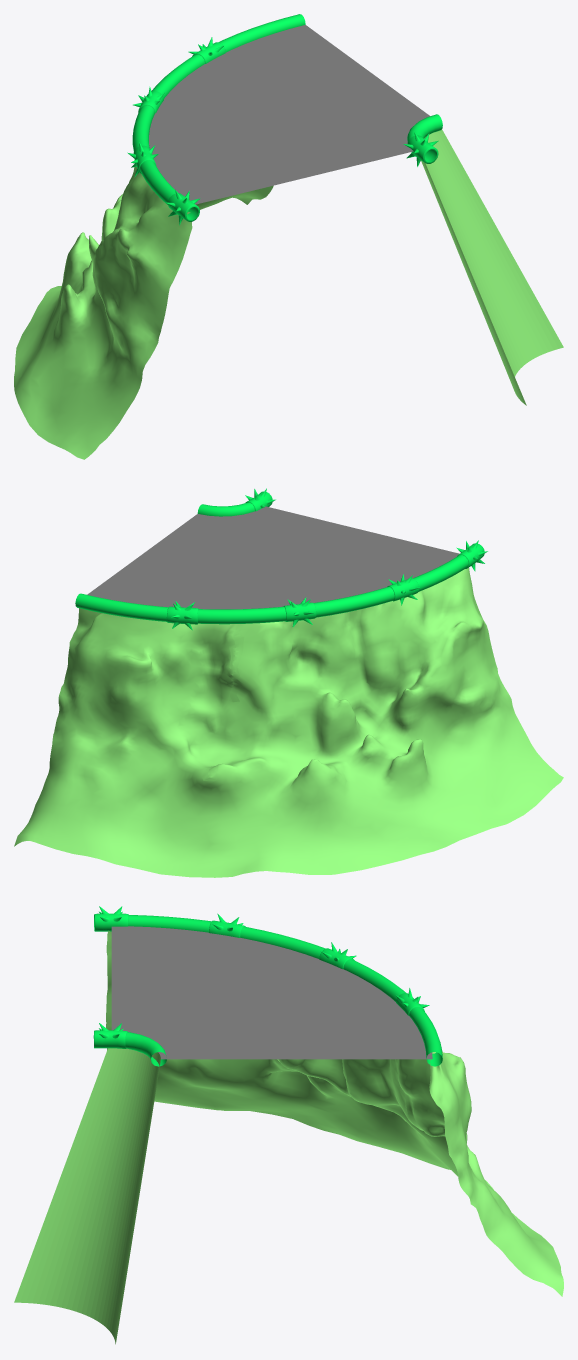
File: Track_Ice_03.fbx
3 views of the same model, one above another, from view 1: azimuth 30°, elevation 25°; view 2: azimuth 150°, elevation 25°; view 3: azimuth 270°, elevation 25° (orthographic). The views are drawn at different scales.
Visible parts, largest first — view 1: Track_Ice_03_walls, Track_Ice_03; view 2: Track_Ice_03_walls, Track_Ice_03; view 3: Track_Ice_03_walls, Track_Ice_03.
Part boxes in pixels (<box>): Track_Ice_03_walls: <box>14,14,563,459</box>; Track_Ice_03: <box>149,25,429,204</box>; Track_Ice_03_walls: <box>14,488,563,877</box>; Track_Ice_03: <box>87,506,459,609</box>; Track_Ice_03_walls: <box>14,906,563,1344</box>; Track_Ice_03: <box>111,926,432,1059</box>.
Size of what is drawn, in the model's own units: 4573 by 4455 by 2297.
